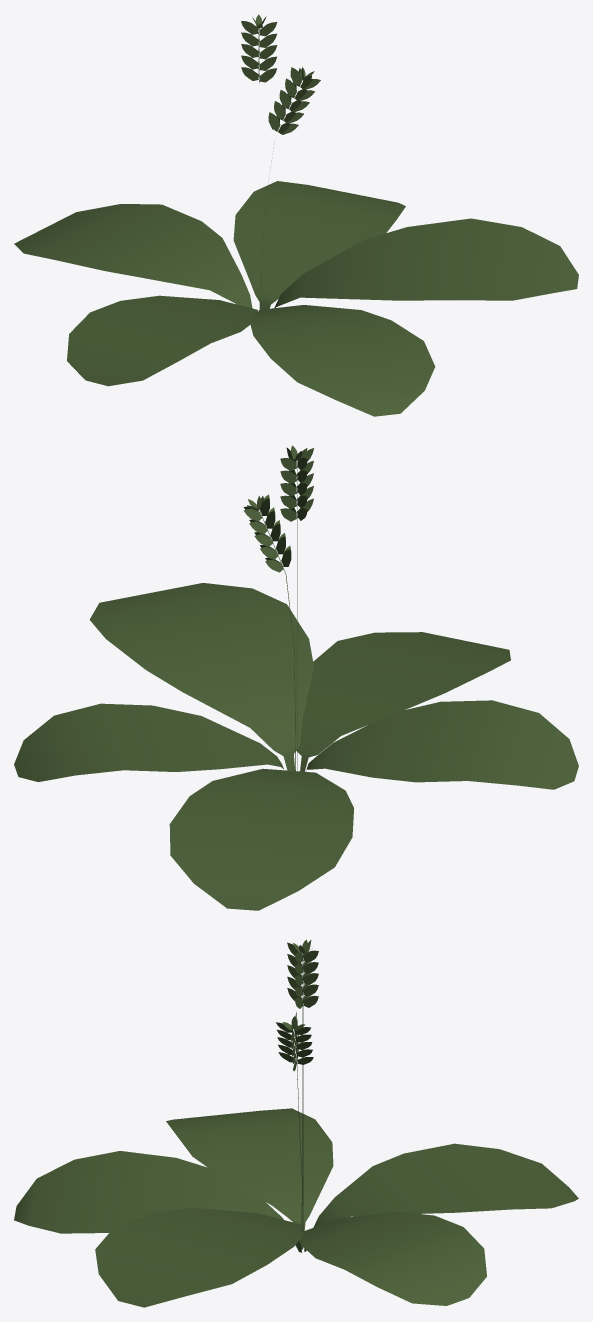
The model's file is pianta1A.fbx.
3 views of the same model, one above another, from view 1: azimuth 30°, elevation 25°; view 2: azimuth 150°, elevation 25°; view 3: azimuth 270°, elevation 25° (orthographic). The views are drawn at different scales.
Visible parts, largest first — view 1: 1A; view 2: 1A; view 3: 1A.
Part boxes in pixels (bbox=[...]): 1A: bbox=[14, 14, 578, 416]; 1A: bbox=[14, 445, 578, 910]; 1A: bbox=[14, 939, 578, 1307].
Bounding box in the file's own units: 164 × 109 × 180.
